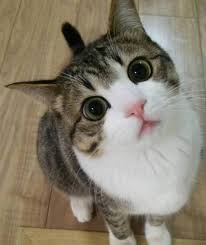cat: (3, 1, 206, 244)
